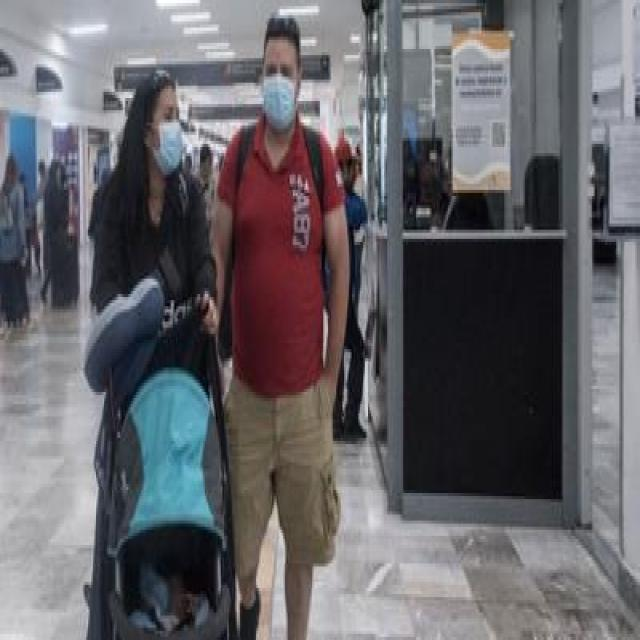with_mask: (151, 99, 185, 179), (263, 56, 297, 130)
